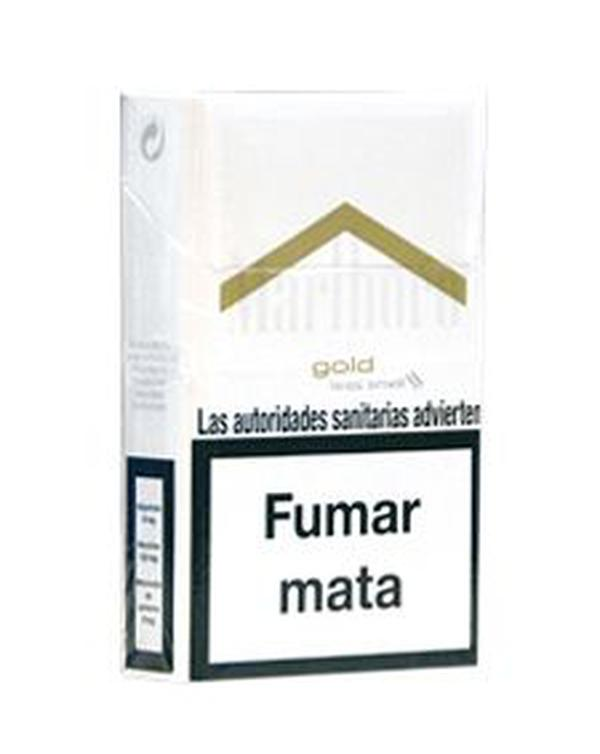marlboro_gold: (192, 105, 477, 666)
